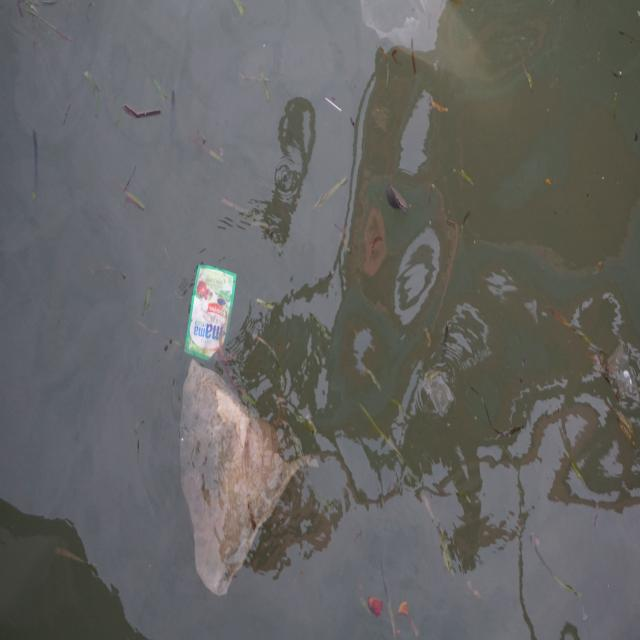Kantong Plastik: (182, 365, 307, 609)
